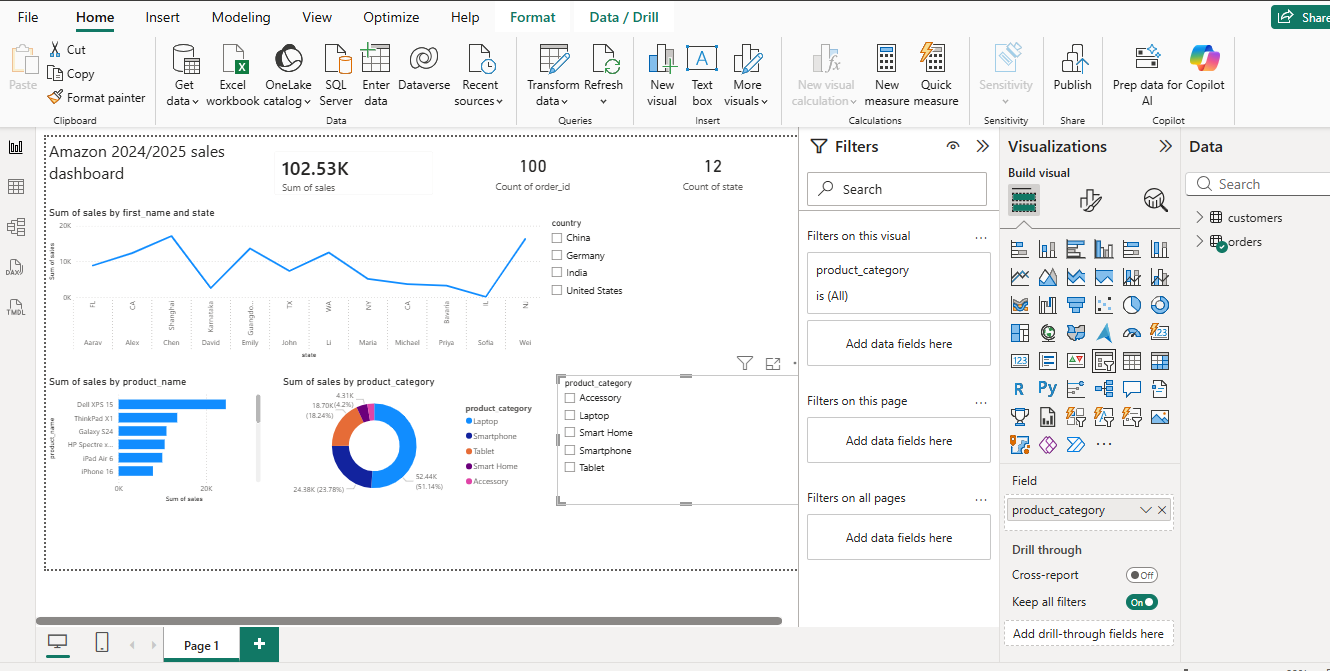

Layout of this report page (visuals, bound fields, positions):
{"tool":"powerbi","page":{"name":"Page 1","canvas":[1280,720],"ordinal":0},"visuals":[{"type":"barChart","fields":{"Y":["orders.sales"],"Category":["orders.product_name"]},"box":[0,396.4,362.8,216.7],"z":0},{"type":"donutChart","fields":{"Category":["orders.product_category"],"Y":["orders.sales"]},"box":[389.7,396.4,440.1,216.7],"z":1},{"type":"lineChart","fields":{"Category":["customers.first_name","customers.state"],"Y":["orders.sales"]},"box":[0,114.2,829.8,258.7],"z":2},{"type":"slicer","fields":{"Values":["customers.country"]},"box":[829.8,129.3,450.2,230.1],"z":3},{"type":"slicer","fields":{"Values":["orders.product_category"]},"box":[851.7,396.4,428.3,216.7],"z":4},{"type":"textbox","box":[0,0,399.8,114.2],"z":5},{"type":"cardVisual","fields":{"Data":["orders.sales"]},"box":[362.8,6.7,299,107.5],"z":6},{"type":"card","fields":{"Values":["orders.order_id"]},"box":[661.8,0,299,114.2],"z":7},{"type":"card","fields":{"Values":["customers.state"]},"box":[960.8,0,299,114.2],"z":8}]}

Visuals, with their boxes on the page's 1280x720 design canvas (x1, y1, x2, y2). These are canvas units, not pixel positions in the 1330x671 screenshot, which may show the page scaled, cropped or inside an application window:
barChart - orders.sales x orders.product_name: locate(0, 396, 363, 613)
donutChart - orders.product_category x orders.sales: locate(390, 396, 830, 613)
lineChart - customers.first_name x customers.state: locate(0, 114, 830, 373)
slicer - customers.country: locate(830, 129, 1280, 359)
slicer - orders.product_category: locate(852, 396, 1280, 613)
textbox: locate(0, 0, 400, 114)
cardVisual - orders.sales: locate(363, 7, 662, 114)
card - orders.order_id: locate(662, 0, 961, 114)
card - customers.state: locate(961, 0, 1260, 114)
